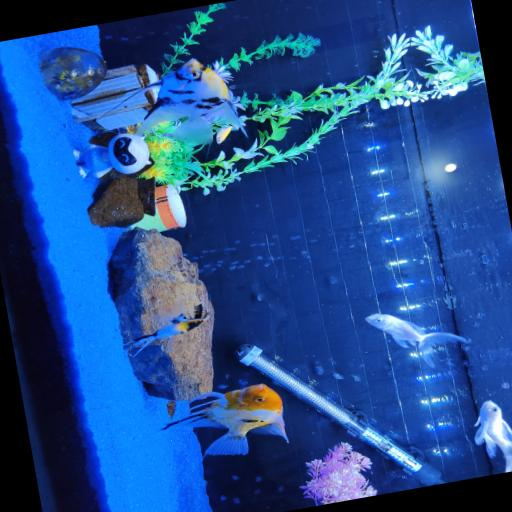Fish: (161, 384, 287, 456), (136, 59, 239, 144), (365, 314, 466, 367), (125, 302, 209, 357), (474, 401, 511, 472)
